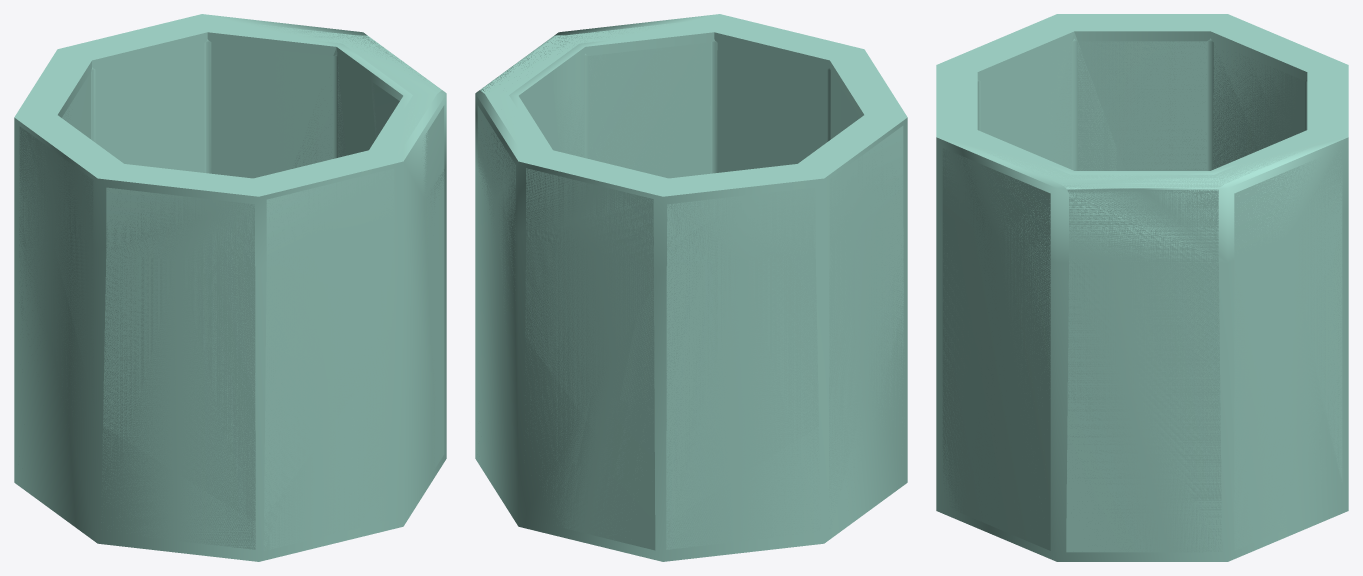
File: space-kit__rocket_fuelA.glb
The picture shows the model from 3 angles, left to right: view 1: azimuth 30°, elevation 25°; view 2: azimuth 150°, elevation 25°; view 3: azimuth 270°, elevation 25°; orthographic projection. The views are drawn at different scales.
Parts seen in each view (by area): view 1: L0_accent, L1_accent; view 2: L0_accent, L1_accent; view 3: L0_accent, L1_accent.
Part boxes in pixels (x1=…): L0_accent: x1=19, y1=18, x2=444, y2=550; L1_accent: x1=14, y1=14, x2=446, y2=561; L0_accent: x1=477, y1=18, x2=904, y2=550; L1_accent: x1=475, y1=14, x2=907, y2=561; L0_accent: x1=942, y1=18, x2=1342, y2=552; L1_accent: x1=936, y1=14, x2=1348, y2=561.
Bounding box in the file's own units: 1 × 1 × 1.
